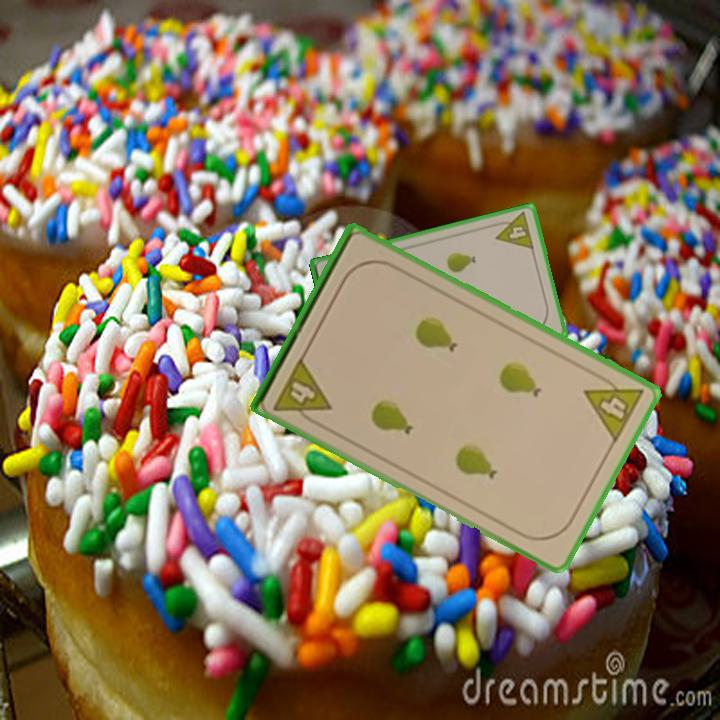4p: (580, 368, 647, 446), (269, 353, 335, 429), (489, 209, 537, 252)
